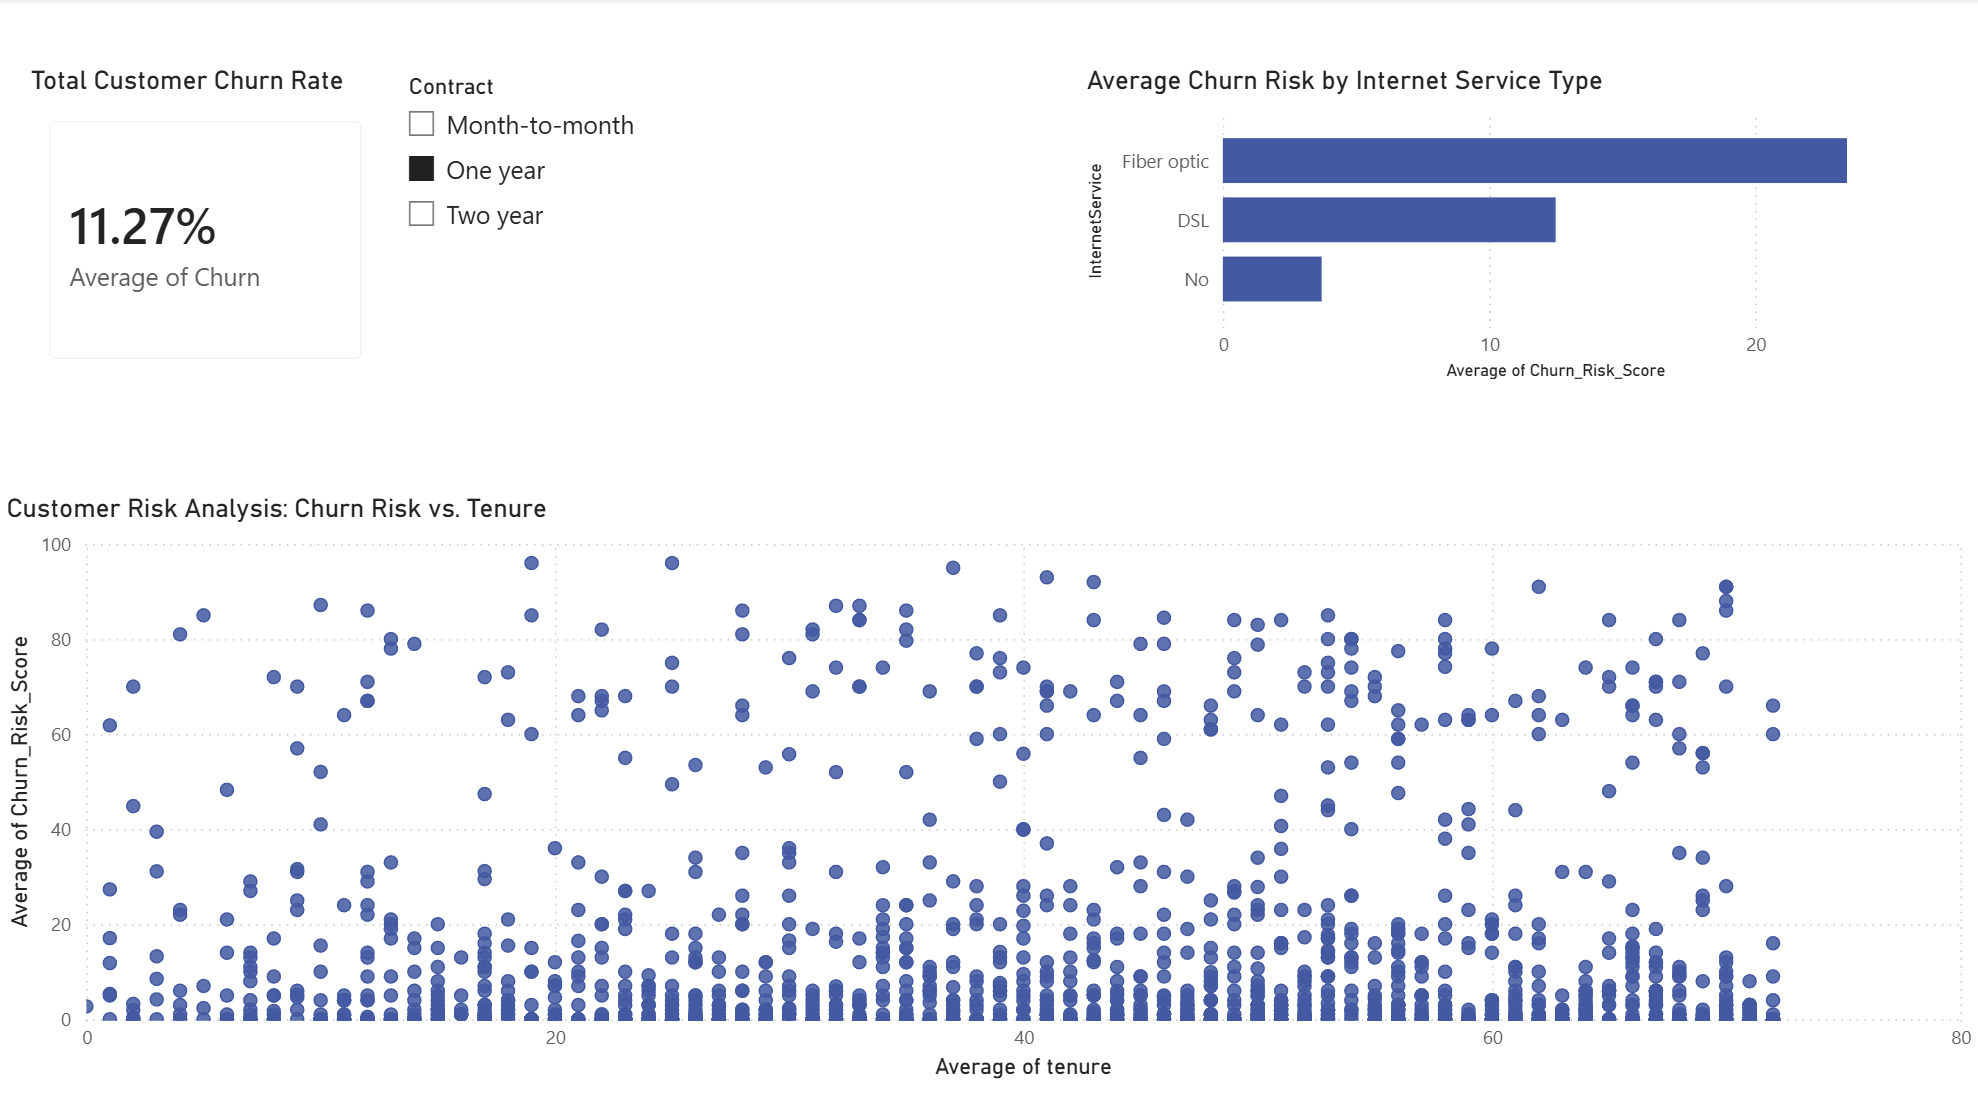

The page's visual inventory and layout, read from the dashboard file:
{"tool":"powerbi","page":{"name":"Page 1","canvas":[1280,720],"ordinal":0},"visuals":[{"type":"cardVisual","title":"Total Customer Churn Rate","fields":{"Data":["Avg(PowerBI_Churn_Data.Churn)"]},"box":[15.2,44,236.6,207.8],"z":0},{"type":"scatterChart","title":"Customer Risk Analysis: Churn Risk vs. Tenure","fields":{"X":["Avg(PowerBI_Churn_Data.tenure)"],"Y":["Avg(PowerBI_Churn_Data.Churn_Risk_Score)"],"Category":["PowerBI_Churn_Data.customerID"]},"box":[0,320,1280,383.7],"z":1},{"type":"slicer","fields":{"Values":["PowerBI_Churn_Data.Contract"]},"box":[251.8,44,411,207.8],"z":2},{"type":"clusteredBarChart","title":"Average Churn Risk by Internet Service Type ","fields":{"Category":["PowerBI_Churn_Data.InternetService"],"Y":["Avg(PowerBI_Churn_Data.Churn_Risk_Score)"]},"box":[697.6,44,535.4,207.8],"z":3}]}

Visuals, with their boxes in screenshot pixels (x1, y1, x2, y2), scaled from the page's 1280x720 canvas onto the 1978x1108 screenshot:
"Total Customer Churn Rate" cardVisual: x1=23, y1=68, x2=389, y2=387
"Customer Risk Analysis: Churn Risk vs. Tenure" scatterChart: x1=0, y1=492, x2=1977, y2=1083
slicer - PowerBI_Churn_Data.Contract: x1=389, y1=68, x2=1024, y2=387
"Average Churn Risk by Internet Service Type " clusteredBarChart: x1=1078, y1=68, x2=1905, y2=387
